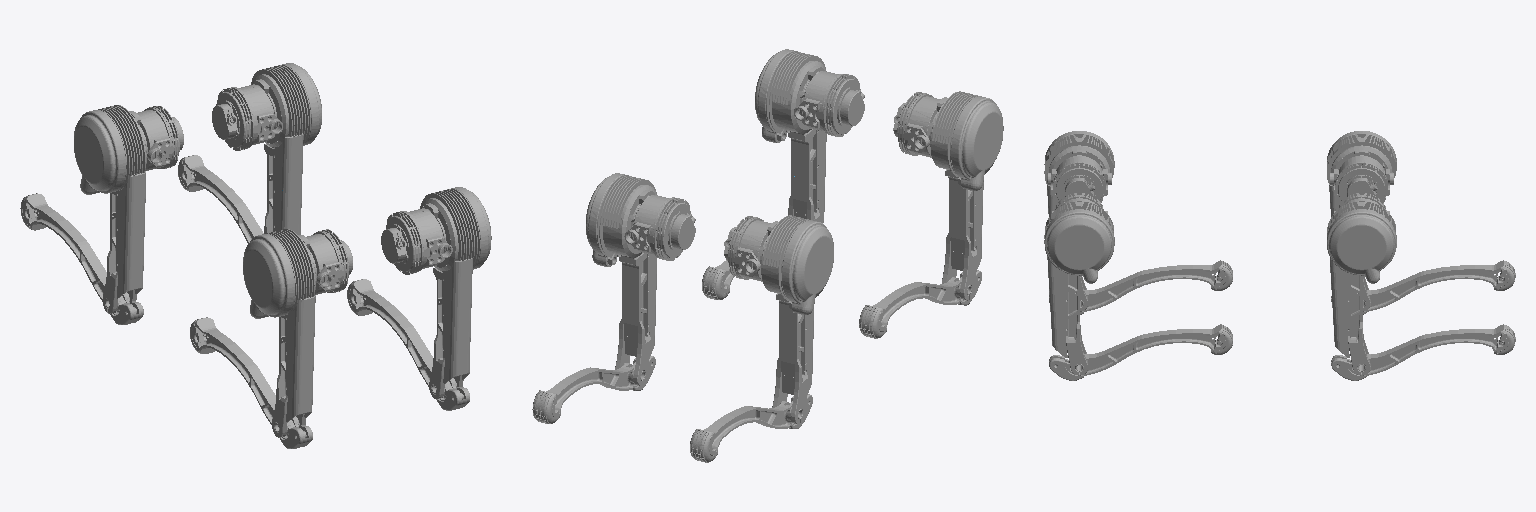
The robot description file, URDF, robot "JYPro":
<?xml version="1.0" encoding="utf-8"?>

<robot name="JYPro">

  <!-- <link name="origin_link">
    </link>
  <joint name="origin_joint" type="fixed">
    <origin
      xyz="0 0 0.6"
      rpy="0 0 0"/>
    <parent link="origin_link"/>
    <child link="base"/>
  </joint> -->

    <!-- <link name="world">
    </link>
  <joint name="origin_joint" type="fixed">
    <origin
      xyz="0 0 1"
      rpy="0 0 0"/>
    <parent link="world"/>
    <child link="base"/>
  </joint> -->

  <link
    name="base">
    <inertial>
      <origin
        xyz="0.00043155 0.039218 0.025123"
        rpy="0 0 0" />
      <mass
        value="31.086" />
      <inertia
        ixx="2.2278"
        ixy="0.0021782"
        ixz="0.0009097"
        iyy="0.27493"
        iyz="-0.13204"
        izz="2.1908" />
    </inertial>
    <visual>
      <origin
        xyz="0 0 0"
        rpy="0 0 0" />
      <geometry>
        <mesh
          filename="package://JYPro/meshes/body.STL" />
      </geometry>
      <material
        name="">
        <color
          rgba="0.69804 0.69804 0.69804 1" />
      </material>
    </visual>
    <collision>
      <origin
        xyz="0 0 0"
        rpy="0 0 0" />
      <geometry>
        <mesh
          filename="package://JYPro/meshes/body.STL" />
      </geometry>
    </collision>
  </link>

    <link name="imu_link">
    <inertial>
      <mass value="0.0000001"/>
      <origin rpy="0 0 0" xyz="0 0 0"/>
      <inertia ixx="0.0000000001" ixy="0" ixz="0" iyy="0.00000000001" iyz="0" izz="0.000000001"/>
    </inertial>
  <visual>
    <origin rpy="0 0 0" xyz="0 0 0"/>
    <geometry>
      <box size="0.001 0.001 0.001"/>
    </geometry>
  </visual>
  <collision>
    <origin rpy="0 0 0" xyz="0 0 0"/>
    <geometry>
      <box size=".001 .001 .001"/>
    </geometry>
  </collision>
 </link>
 <joint name="imu_joint" type="fixed">
    <axis xyz="0 0 0"/> 
    <origin xyz="0 0 0"/>
    <parent link="base"/>
    <child link="imu_link"/>
  </joint>

  <link
    name="LF_HIP">
    <inertial>
      <origin
        xyz="4.14485893307365E-05 -0.00113627716579498 -0.0268906627091174"
        rpy="0 0 0" />
      <mass
        value="2.50549192294322" />
      <inertia
        ixx="0.00412481611325406"
        ixy="-8.61923036175591E-07"
        ixz="3.73143726705958E-06"
        iyy="0.00494762206279559"
        iyz="0.000113743229299035"
        izz="0.00567911706773225" />
    </inertial>
    <visual>
      <origin
        xyz="0 0 0"
        rpy="0 0 0" />
      <geometry>
        <mesh
          filename="package://JYPro/meshes/LF.STL" />
      </geometry>
      <material
        name="">
        <color
          rgba="0.698039215686274 0.698039215686274 0.698039215686274 1" />
      </material>
    </visual>
    <collision>
      <origin
        xyz="0 0 0"
        rpy="0 0 0" />
      <geometry>
        <mesh
          filename="package://JYPro/meshes/LF.STL" />
      </geometry>
    </collision>
  </link>
  <joint
    name="LF_HAA"
    type="revolute">
    <origin
      xyz="-0.135 0.33 0"
      rpy="-1.5707963267949 0 1.5707963267949" />
    <parent
      link="base" />
    <child
      link="LF_HIP" />
    <axis
      xyz="1 0 0" />
    <limit
      lower="-0.38397"
      upper="0.38397"
      effort="126.1"
      velocity="24"  />
  </joint>
  <link
    name="LF_THIGH">
    <inertial>
      <origin
        xyz="-0.0077577 0.07269 0.019016"
        rpy="0 0 0" />
      <mass
        value="4.5006" />
      <inertia
        ixx="0.058988"
        ixy="0.0032662"
        ixz="-0.00079631"
        iyy="0.010824"
        iyz="0.0057941"
        izz="0.061893" />
    </inertial>
    <visual>
      <origin
        xyz="0 0 0"
        rpy="0 0 0" />
      <geometry>
        <mesh
          filename="package://JYPro/meshes/LF_1.STL" />
      </geometry>
      <material
        name="">
        <color
          rgba="0.69804 0.69804 0.69804 1" />
      </material>
    </visual>
    <collision>
      <origin
        xyz="0 0 0"
        rpy="0 0 0" />
      <geometry>
        <mesh
          filename="package://JYPro/meshes/LF_1.STL" />
      </geometry>
    </collision>
  </link>
  <joint
    name="LF_HFE"
    type="revolute">
    <origin
      xyz="0 0 0.0419999999999999"
      rpy="0 0 0" />
    <parent
      link="LF_HIP" />
    <child
      link="LF_THIGH" />
    <axis
      xyz="0 0 -1" />
    <limit
      lower="-2.75762"
      upper="0.48869"
      effort="111.4"
      velocity="38"/>
  </joint>
  <link
    name="LF_SHANK">
    <inertial>
      <origin
        xyz="0.0014413 0.14344 1.6577E-05"
        rpy="0 0 0" />
      <mass
        value="0.50672" />
      <inertia
        ixx="0.012216"
        ixy="-0.00022753"
        ixz="2.7026E-08"
        iyy="0.00021985"
        iyz="-1.6284E-06"
        izz="0.012354" />
    </inertial>
    <visual>
      <origin
        xyz="0 0 0"
        rpy="0 0 0" />
      <geometry>
        <mesh
          filename="package://JYPro/meshes/LF_2.STL" />
      </geometry>
      <material
        name="">
        <color
          rgba="0.69804 0.69804 0.69804 1" />
      </material>
    </visual>
    <collision>
      <origin
        xyz="0 0 0"
        rpy="0 0 0" />
      <geometry>
        <mesh
          filename="package://JYPro/meshes/LF_2.STL" />
      </geometry>
    </collision>
  </link>
  <joint
    name="LF_KFE"
    type="revolute">
    <origin
      xyz="0 0.33 0"
      rpy="0 0 0" />
    <parent
      link="LF_THIGH" />
    <child
      link="LF_SHANK" />
    <axis
      xyz="0 0 -1" />
    <limit
      lower="0.66322"
      upper="2.84488"
      effort="195.8"
      velocity="38"  />
  </joint>

  <link
    name="RF_HIP">
    <inertial>
      <origin
        xyz="-4.14485947367454E-05 -0.00113627717429798 0.02689066268977"
        rpy="0 0 0" />
      <mass
        value="2.50549191925909" />
      <inertia
        ixx="0.00412481611134714"
        ixy="8.61923183582635E-07"
        ixz="3.73143744918099E-06"
        iyy="0.00494762206188555"
        iyz="-0.000113743229014181"
        izz="0.00567911706619976" />
    </inertial>
    <visual>
      <origin
        xyz="0 0 0"
        rpy="0 0 0" />
      <geometry>
        <mesh
          filename="package://JYPro/meshes/RF.STL" />
      </geometry>
      <material
        name="">
        <color
          rgba="0.698039215686274 0.698039215686274 0.698039215686274 1" />
      </material>
    </visual>
    <collision>
      <origin
        xyz="0 0 0"
        rpy="0 0 0" />
      <geometry>
        <mesh
          filename="package://JYPro/meshes/RF.STL" />
      </geometry>
    </collision>
  </link>
  <joint
    name="RF_HAA"
    type="revolute">
    <origin
      xyz="0.135 0.33 0"
      rpy="-1.5707963267949 0 1.5707963267949" />
    <parent
      link="base" />
    <child
      link="RF_HIP" />
    <axis
      xyz="-1 0 0" />
    <limit
      lower="-0.38397"
      upper="0.38397"
      effort="126.1"
      velocity="24"   />
  </joint>
  <link
    name="RF_THIGH">
    <inertial>
      <origin
        xyz="-0.0077577 0.07269 -0.019016"
        rpy="0 0 0" />
      <mass
        value="4.5006" />
      <inertia
        ixx="0.058988"
        ixy="0.0032662"
        ixz="0.0007963"
        iyy="0.010824"
        iyz="-0.005794"
        izz="0.061893" />
    </inertial>
    <visual>
      <origin
        xyz="0 0 0"
        rpy="0 0 0" />
      <geometry>
        <mesh
          filename="package://JYPro/meshes/RF-1.STL" />
      </geometry>
      <material
        name="">
        <color
          rgba="0.69804 0.69804 0.69804 1" />
      </material>
    </visual>
    <collision>
      <origin
        xyz="0 0 0"
        rpy="0 0 0" />
      <geometry>
        <mesh
          filename="package://JYPro/meshes/RF-1.STL" />
      </geometry>
    </collision>
  </link>
  <joint
    name="RF_HFE"
    type="revolute">
    <origin
      xyz="0 0 -0.042"
      rpy="0 0 0" />
    <parent
      link="RF_HIP" />
    <child
      link="RF_THIGH" />
    <axis
      xyz="0 0 -1" />
    <limit
      lower="-2.75762"
      upper="0.48869"
      effort="111.4"
      velocity="38" />
  </joint>
  <link
    name="RF_SHANK">
    <inertial>
      <origin
        xyz="0.0014413 0.14344 1.6577E-05"
        rpy="0 0 0" />
      <mass
        value="0.50672" />
      <inertia
        ixx="0.012216"
        ixy="-0.00022753"
        ixz="2.7026E-08"
        iyy="0.00021985"
        iyz="-1.6284E-06"
        izz="0.012354" />
    </inertial>
    <visual>
      <origin
        xyz="0 0 0"
        rpy="0 0 0" />
      <geometry>
        <mesh
          filename="package://JYPro/meshes/RF_2.STL" />
      </geometry>
      <material
        name="">
        <color
          rgba="0.69804 0.69804 0.69804 1" />
      </material>
    </visual>
    <collision>
      <origin
        xyz="0 0 0"
        rpy="0 0 0" />
      <geometry>
        <mesh
          filename="package://JYPro/meshes/RF_2.STL" />
      </geometry>
    </collision>
  </link>
  <joint
    name="RF_KFE"
    type="revolute">
    <origin
      xyz="0 0.33 0"
      rpy="0 0 0" />
    <parent
      link="RF_THIGH" />
    <child
      link="RF_SHANK" />
    <axis
      xyz="0 0 -1" />
    <limit
      lower="0.66322"
      upper="2.84488"
      effort="195.8"
      velocity="38" />
  </joint>

  <link
    name="LH_HIP">
    <inertial>
      <origin
        xyz="4.14485800360742E-05 -0.00113627716607437 -0.0268906627007571"
        rpy="0 0 0" />
      <mass
        value="2.50549192134742" />
      <inertia
        ixx="0.00412481611295601"
        ixy="-8.61923030740982E-07"
        ixz="3.73143695454939E-06"
        iyy="0.00494762206190561"
        iyz="0.000113743229290125"
        izz="0.00567911706709784" />
    </inertial>
    <visual>
      <origin
        xyz="0 0 0"
        rpy="0 0 0" />
      <geometry>
        <mesh
          filename="package://JYPro/meshes/LB.STL" />
      </geometry>
      <material
        name="">
        <color
          rgba="0.698039215686274 0.698039215686274 0.698039215686274 1" />
      </material>
    </visual>
    <collision>
      <origin
        xyz="0 0 0"
        rpy="0 0 0" />
      <geometry>
        <mesh
          filename="package://JYPro/meshes/LB.STL" />
      </geometry>
    </collision>
  </link>
  <joint
    name="LH_HAA"
    type="revolute">
    <origin
      xyz="-0.135 -0.33 0"
      rpy="-1.5707963267949 0 1.5707963267949" />
    <parent
      link="base" />
    <child
      link="LH_HIP" />
    <axis
      xyz="1 0 0" />
    <limit
      lower="-0.38397"
      upper="0.38397"
      effort="126.1"
      velocity="24"  />
  </joint>
  <link
    name="LH_THIGH">
    <inertial>
      <origin
        xyz="-0.00775771796402047 0.0726900313706462 0.0190159993999425"
        rpy="0 0 0" />
      <mass
        value="4.50059878456915" />
      <inertia
        ixx="0.0589879584366234"
        ixy="0.00326615871700767"
        ixz="-0.000796308739824401"
        iyy="0.010823989200702"
        iyz="0.00579405626212472"
        izz="0.0618928093310483" />
    </inertial>
    <visual>
      <origin
        xyz="0 0 0"
        rpy="0 0 0" />
      <geometry>
        <mesh
          filename="package://JYPro/meshes/LB_1.STL" />
      </geometry>
      <material
        name="">
        <color
          rgba="0.698039215686274 0.698039215686274 0.698039215686274 1" />
      </material>
    </visual>
    <collision>
      <origin
        xyz="0 0 0"
        rpy="0 0 0" />
      <geometry>
        <mesh
          filename="package://JYPro/meshes/LB_1.STL" />
      </geometry>
    </collision>
  </link>
  <joint
    name="LH_HFE"
    type="revolute">
    <origin
      xyz="0 0 0.0419999999999999"
      rpy="0 0 0" />
    <parent
      link="LH_HIP" />
    <child
      link="LH_THIGH" />
    <axis
      xyz="0 0 -1" />
    <limit
      lower="-2.75762"
      upper="0.48869"
      effort="111.4"
      velocity="38" />
  </joint>
  <link
    name="LH_SHANK">
    <inertial>
      <origin
        xyz="0.0014413 0.14344 1.6577E-05"
        rpy="0 0 0" />
      <mass
        value="0.50672" />
      <inertia
        ixx="0.012216"
        ixy="-0.00022753"
        ixz="2.7026E-08"
        iyy="0.00021985"
        iyz="-1.6284E-06"
        izz="0.012354" />
    </inertial>
    <visual>
      <origin
        xyz="0 0 0"
        rpy="0 0 0" />
      <geometry>
        <mesh
          filename="package://JYPro/meshes/LB_2.STL" />
      </geometry>
      <material
        name="">
        <color
          rgba="0.69804 0.69804 0.69804 1" />
      </material>
    </visual>
    <collision>
      <origin
        xyz="0 0 0"
        rpy="0 0 0" />
      <geometry>
        <mesh
          filename="package://JYPro/meshes/LB_2.STL" />
      </geometry>
    </collision>
  </link>
  <joint
    name="LH_KFE"
    type="revolute">
    <origin
      xyz="0 0.33 0"
      rpy="0 0 0" />
    <parent
      link="LH_THIGH" />
    <child
      link="LH_SHANK" />
    <axis
      xyz="0 0 -1" />
    <limit
      lower="0.66322"
      upper="2.84488"
      effort="195.8"
      velocity="38"  />
  </joint>

  <link
    name="RH_HIP">
    <inertial>
      <origin
        xyz="-4.14485765461992E-05 -0.00113627716531262 0.0268906626955816"
        rpy="0 0 0" />
      <mass
        value="2.50549192036455" />
      <inertia
        ixx="0.00412481611229508"
        ixy="8.61922976232822E-07"
        ixz="3.73143683697258E-06"
        iyy="0.00494762206182641"
        iyz="-0.000113743229315575"
        izz="0.00567911706670221" />
    </inertial>
    <visual>
      <origin
        xyz="0 0 0"
        rpy="0 0 0" />
      <geometry>
        <mesh
          filename="package://JYPro/meshes/RB.STL" />
      </geometry>
      <material
        name="">
        <color
          rgba="0.698039215686274 0.698039215686274 0.698039215686274 1" />
      </material>
    </visual>
    <collision>
      <origin
        xyz="0 0 0"
        rpy="0 0 0" />
      <geometry>
        <mesh
          filename="package://JYPro/meshes/RB.STL" />
      </geometry>
    </collision>
  </link>
  <joint
    name="RH_HAA"
    type="revolute">
    <origin
      xyz="0.135 -0.33 0"
      rpy="-1.5707963267949 0 1.5707963267949" />
    <parent
      link="base" />
    <child
      link="RH_HIP" />
    <axis
      xyz="-1 0 0" />
    <limit
      lower="-0.38397"
      upper="0.38397"
      effort="126.1"
      velocity="24"   />
  </joint>
  <link
    name="RH_THIGH">
    <inertial>
      <origin
        xyz="-0.0077577 0.07269 -0.019016"
        rpy="0 0 0" />
      <mass
        value="4.5006" />
      <inertia
        ixx="0.058988"
        ixy="0.0032662"
        ixz="0.0007963"
        iyy="0.010824"
        iyz="-0.005794"
        izz="0.061893" />
    </inertial>
    <visual>
      <origin
        xyz="0 0 0"
        rpy="0 0 0" />
      <geometry>
        <mesh
          filename="package://JYPro/meshes/RB_1.STL" />
      </geometry>
      <material
        name="">
        <color
          rgba="0.69804 0.69804 0.69804 1" />
      </material>
    </visual>
    <collision>
      <origin
        xyz="0 0 0"
        rpy="0 0 0" />
      <geometry>
        <mesh
          filename="package://JYPro/meshes/RB_1.STL" />
      </geometry>
    </collision>
  </link>
  <joint
    name="RH_HFE"
    type="revolute">
    <origin
      xyz="0 0 -0.0419999999999999"
      rpy="0 0 0" />
    <parent
      link="RH_HIP" />
    <child
      link="RH_THIGH" />
    <axis
      xyz="0 0 -1" />
    <limit
      lower="-2.75762"
      upper="0.48869"
      effort="111.4"
      velocity="38" />
  </joint>
  <link
    name="RH_SHANK">
    <inertial>
      <origin
        xyz="0.00144130821614064 0.143436695663533 1.65770431969081E-05"
        rpy="0 0 0" />
      <mass
        value="0.506717439816204" />
      <inertia
        ixx="0.0122163341692312"
        ixy="-0.000227526374818526"
        ixz="2.70255941452921E-08"
        iyy="0.000219848406703217"
        iyz="-1.62843314387346E-06"
        izz="0.0123538734657825" />
    </inertial>
    <visual>
      <origin
        xyz="0 0 0"
        rpy="0 0 0" />
      <geometry>
        <mesh
          filename="package://JYPro/meshes/RB_2.STL" />
      </geometry>
      <material
        name="">
        <color
          rgba="0.698039215686274 0.698039215686274 0.698039215686274 1" />
      </material>
    </visual>
    <collision>
      <origin
        xyz="0 0 0"
        rpy="0 0 0" />
      <geometry>
        <mesh
          filename="package://JYPro/meshes/RB_2.STL" />
      </geometry>
    </collision>
  </link>
  <joint
    name="RH_KFE"
    type="revolute">
    <origin
      xyz="0 0.33 0"
      rpy="0 0 0" />
    <parent
      link="RH_THIGH" />
    <child
      link="RH_SHANK" />
    <axis
      xyz="0 0 -1" />
    <limit
      lower="0.66322"
      upper="2.84488"
      effort="195.8"
      velocity="38" />
  </joint>

  <link name="LF_FOOT">
  </link>
  <joint name = "LF_FOOT_joint" type = "fixed">
    <origin xyz="0 0.33 0" rpy = "0 0 0"/>
    <parent link="LF_SHANK"/>
    <child link = "LF_FOOT"/>
  </joint>

  <link name="LH_FOOT">
  </link>
  <joint name = "LH_FOOT_joint" type = "fixed">
    <origin xyz="0 0.33 0" rpy = "0 0 0"/>
    <parent link="LH_SHANK"/>
    <child link = "LH_FOOT"/>
  </joint>

  <link name="RF_FOOT">
  </link>
  <joint name = "RF_FOOT_joint" type = "fixed">
    <origin xyz="0 0.33 0" rpy = "0 0 0"/>
    <parent link="RF_SHANK"/>
    <child link = "RF_FOOT"/>
  </joint>

  <link name="RH_FOOT">
  </link>
  <joint name = "RH_FOOT_joint" type = "fixed">
    <origin xyz="0 0.33 0" rpy = "0 0 0"/>
    <parent link="RH_SHANK"/>
    <child link = "RH_FOOT"/>
  </joint>
</robot>

--- Render facts (derived) ---
3 views of the same robot in one strip: view 1: azimuth 30°, elevation 25°; view 2: azimuth 150°, elevation 25°; view 3: azimuth 270°, elevation 25° (orthographic).
Model JYPro with 18 links and 17 joints (12 revolute, 5 fixed), rooted at base, posed all joints at 0 but 4 set to mid-range because 0 is outside their limits (LF_KFE = 1.75, RF_KFE = 1.75, LH_KFE = 1.75, RH_KFE = 1.75).
Visible links, largest first — view 1: LH_THIGH, LF_THIGH, RH_THIGH, RF_THIGH, RH_HIP, RF_HIP, RH_SHANK, LF_SHANK, LH_SHANK, RF_SHANK, LH_HIP, LF_HIP; view 2: LF_THIGH, LH_THIGH, RF_THIGH, RH_THIGH, RF_HIP, RH_HIP, LH_SHANK, LF_SHANK, RF_SHANK, LH_HIP, LF_HIP, RH_SHANK; view 3: RF_THIGH, RH_THIGH, RH_SHANK, RF_SHANK, LH_SHANK, LF_SHANK, LH_HIP, LF_HIP, LF_THIGH, LH_THIGH.
Link boxes in pixels (x1,y1,x2,y2): LH_THIGH: (243, 229, 315, 437); LF_THIGH: (74, 105, 146, 313); RH_THIGH: (420, 187, 491, 399); RF_THIGH: (251, 63, 321, 234); RH_HIP: (381, 203, 452, 274); RF_HIP: (212, 79, 282, 150); RH_SHANK: (347, 279, 469, 410); LF_SHANK: (20, 193, 143, 324); LH_SHANK: (190, 317, 312, 448); RF_SHANK: (178, 155, 263, 243); LH_HIP: (298, 229, 352, 294); LF_HIP: (129, 106, 183, 170); LF_THIGH: (759, 215, 833, 423); LH_THIGH: (929, 91, 1003, 300); RF_THIGH: (586, 173, 656, 385); RH_THIGH: (755, 49, 826, 222); RF_HIP: (624, 190, 695, 260); RH_HIP: (794, 66, 864, 136); LH_SHANK: (859, 270, 981, 338); LF_SHANK: (690, 394, 812, 462); RF_SHANK: (532, 356, 655, 423); LH_HIP: (893, 92, 947, 157); LF_HIP: (724, 216, 777, 281); RH_SHANK: (702, 260, 733, 299); RF_THIGH: (1327, 201, 1396, 375); RH_THIGH: (1044, 201, 1114, 375); RH_SHANK: (1049, 324, 1232, 380); RF_SHANK: (1331, 324, 1515, 380); LH_SHANK: (1049, 260, 1232, 314); LF_SHANK: (1331, 260, 1515, 314); LH_HIP: (1047, 150, 1111, 202); LF_HIP: (1330, 150, 1393, 202); LF_THIGH: (1327, 131, 1396, 311); LH_THIGH: (1044, 131, 1114, 311).
Size in the robot's own frame: 0.492 by 1.1 by 0.453 metres.
12 mesh visuals loaded from 13 distinct referenced files (12 binary STL); not drawn: 1 (reference not matched to a file when rendering).
